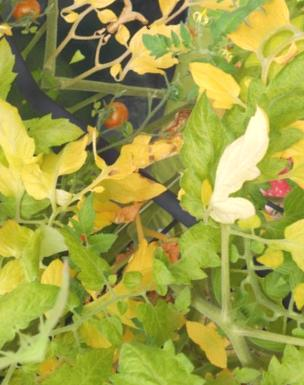Tomato leaf yellow virus: (77, 107, 205, 230), (90, 310, 194, 385), (181, 43, 255, 120), (267, 186, 304, 270), (0, 145, 14, 246)
